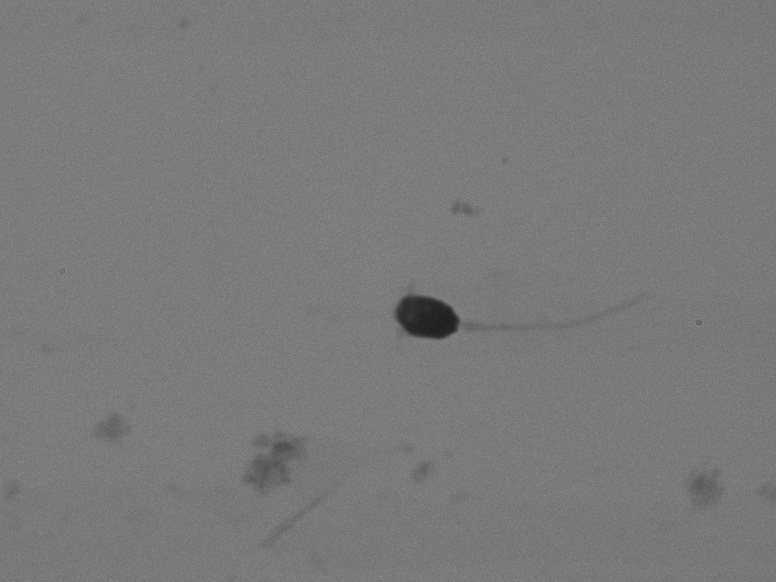Abnormal: (375, 243, 704, 373)
